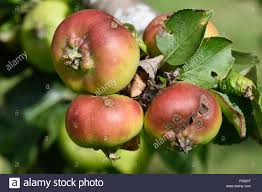damaged_apple: (50, 12, 143, 90), (147, 84, 226, 148), (141, 7, 225, 64), (65, 88, 143, 147)
